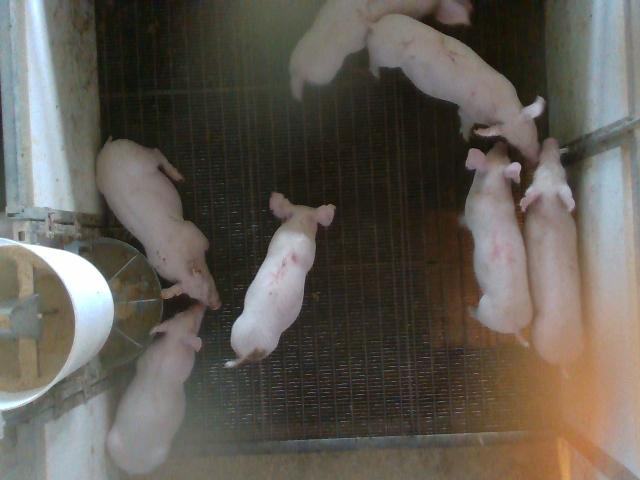pig-4: (465, 142, 532, 344)
pig-5: (225, 192, 335, 367)
